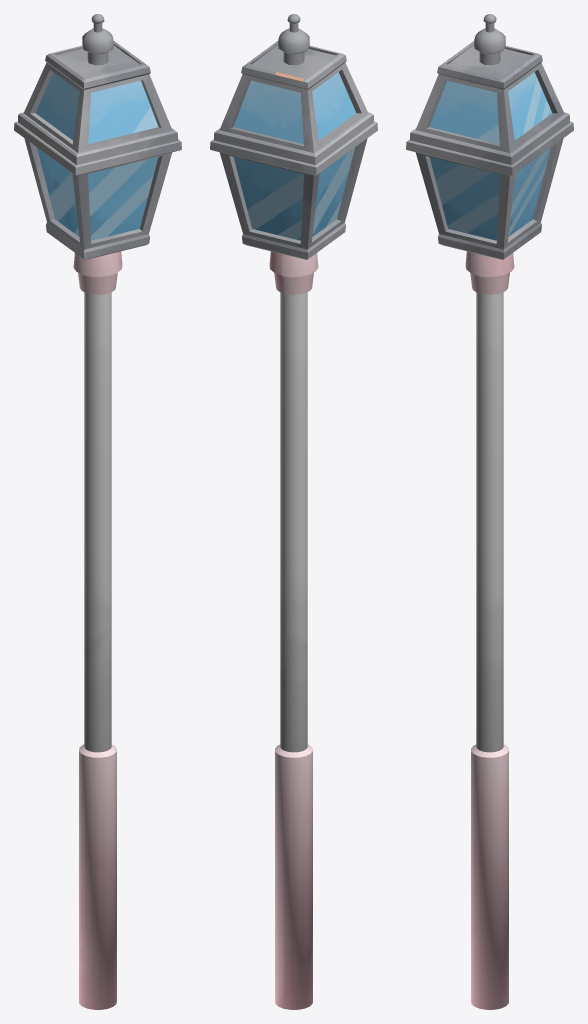
Rendered from Streetlight.fbx.
3 views of the same model, side by side, from view 1: azimuth 30°, elevation 25°; view 2: azimuth 150°, elevation 25°; view 3: azimuth 330°, elevation 25° (orthographic).
Visible parts, largest first — view 1: StreetLight; view 2: StreetLight; view 3: StreetLight.
Part boxes in pixels (left/top/right/bottom): StreetLight: left=14, top=14, right=181, bottom=1009; StreetLight: left=210, top=14, right=377, bottom=1009; StreetLight: left=406, top=14, right=573, bottom=1009.
Size of the model in its own units: 44.41 by 394 by 44.41.
